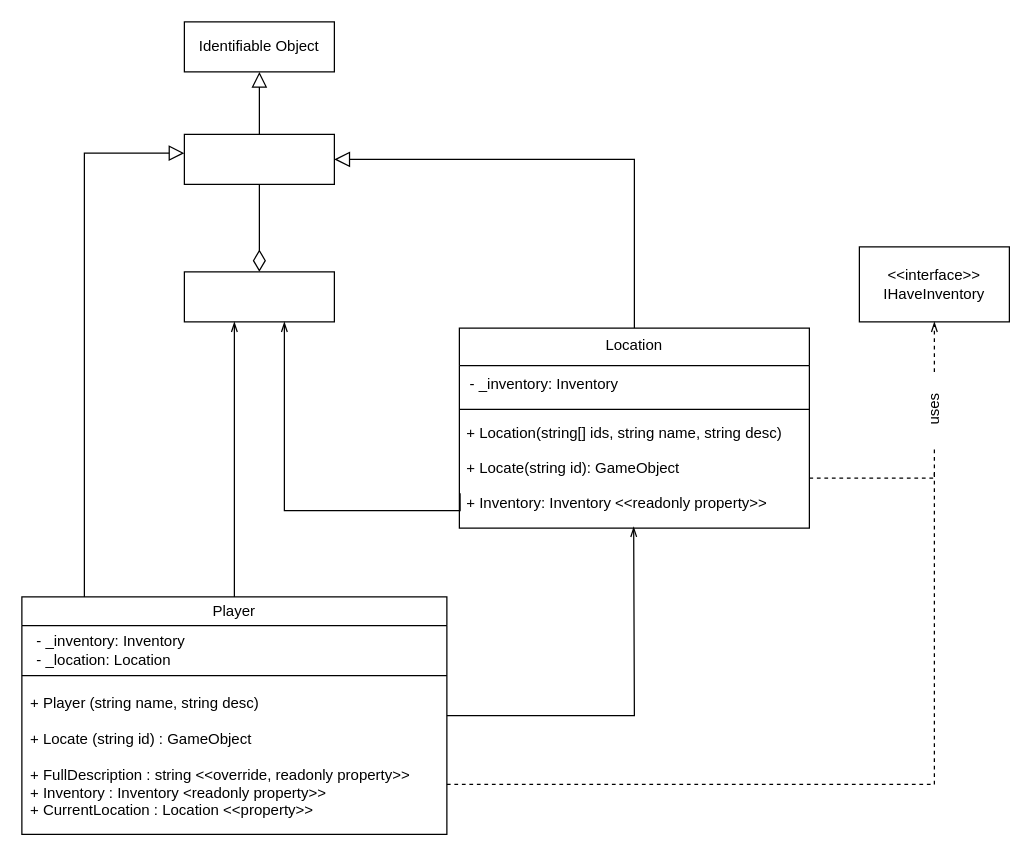
Some shapes in this 1031 by 856 pixel diagram are drawn without their labels. The centre of each missing label's shape, as x and y in pixels:
"<<abstract>> Game Object" goes at [258,158].
"Inventory" goes at [258,296].
